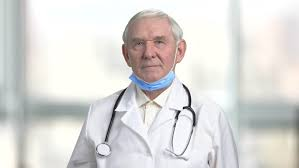mask_weared_incorrect: (129, 34, 177, 91)
